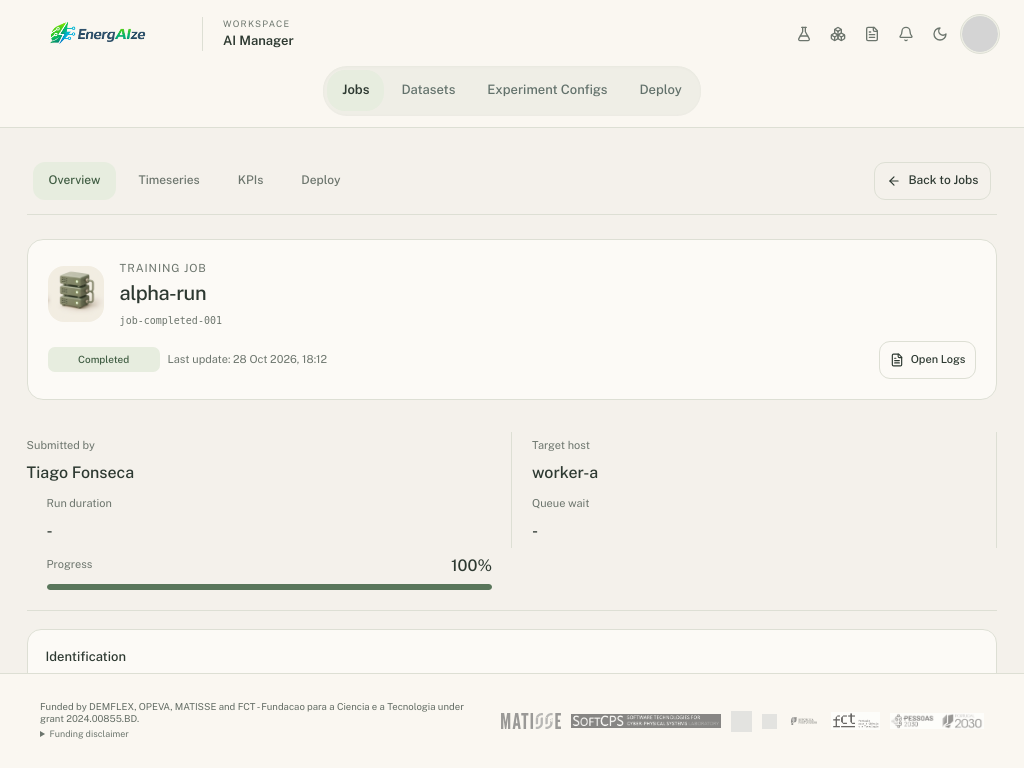
Test case: App integration › shows a completed job without waiting for optional results or scanning its files
Expected: the button "Open Logs" is shown, [879,341,976,379]
Click the button "Timeseries".
click(169, 181)  # box [122,162,216,200]
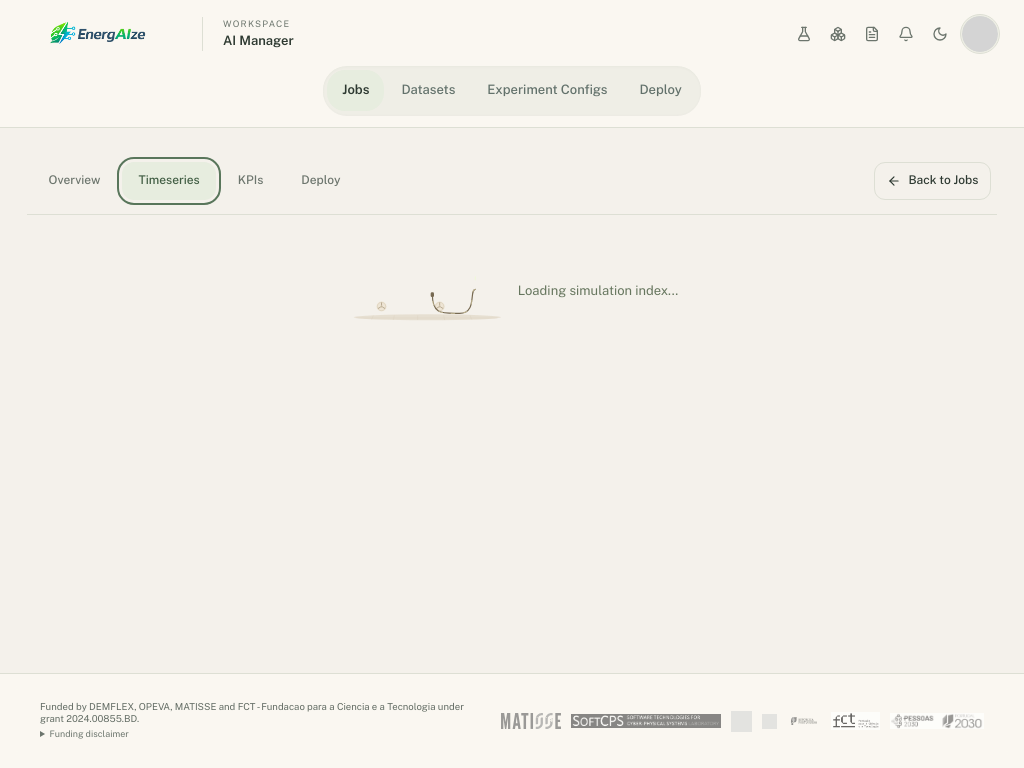
Expected: the text "Loading simulation index..." is shown, [518,281,678,301]
